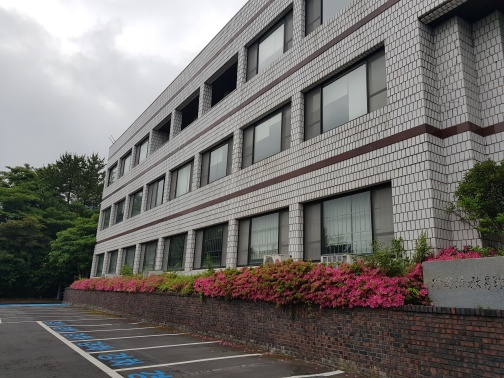Foreign Language Institute: (93, 9, 499, 347), (164, 37, 396, 198)
